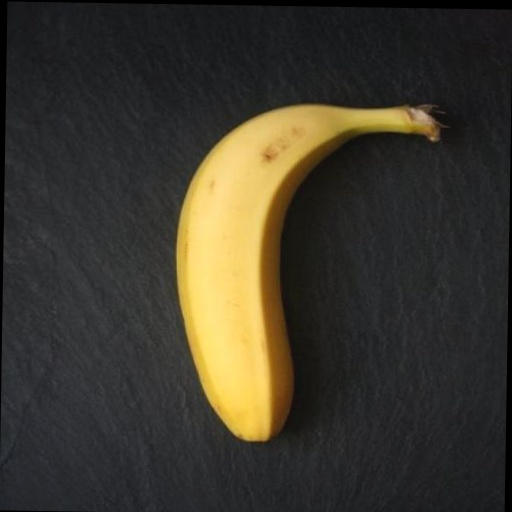fruit: (177, 105, 439, 440)
